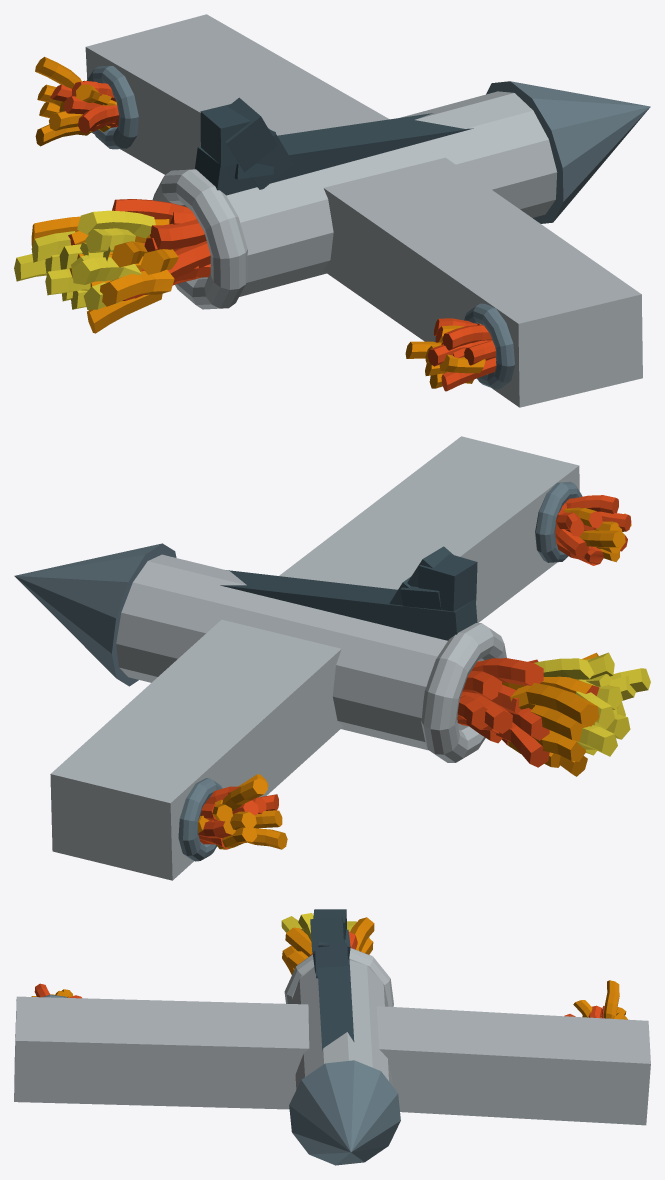
Rendered from rocket-model.gltf.
3 renders of one model, top to bottom at view 1: azimuth 30°, elevation 25°; view 2: azimuth 150°, elevation 25°; view 3: azimuth 270°, elevation 25°, orthographic. The views are drawn at different scales.
Parts seen in each view (by area): view 1: node_MeshObject809656320-PolyPaper21; view 2: node_MeshObject809656320-PolyPaper21; view 3: node_MeshObject809656320-PolyPaper21.
Boxes of the visible parts, box(x1,y1,x2,y2) form: node_MeshObject809656320-PolyPaper21: box(14, 14, 650, 407); node_MeshObject809656320-PolyPaper21: box(14, 436, 650, 880); node_MeshObject809656320-PolyPaper21: box(14, 909, 650, 1165).
Bounding box in the file's own units: 1.98 × 0.5943 × 2.36.
